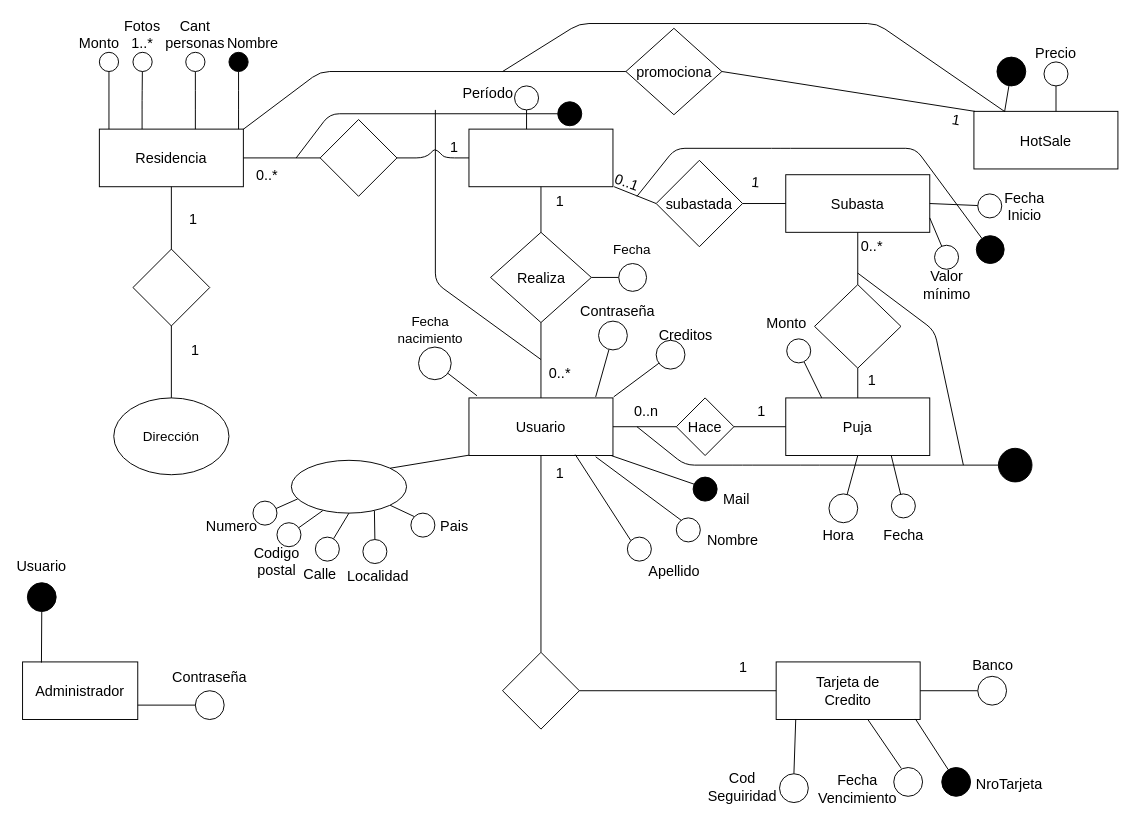
Image size: 1135x822. Some labels were removed from this diagram. Here are the shapes that lost their labels. From the top down, the centre of each, then its label:
At point (358, 157): "Tiene".
At point (540, 157): "Reserva".
At point (171, 287): "localizada".
At point (857, 326): "corresponde".
At point (348, 486): "Direccion".
At point (540, 690): "Posee".
